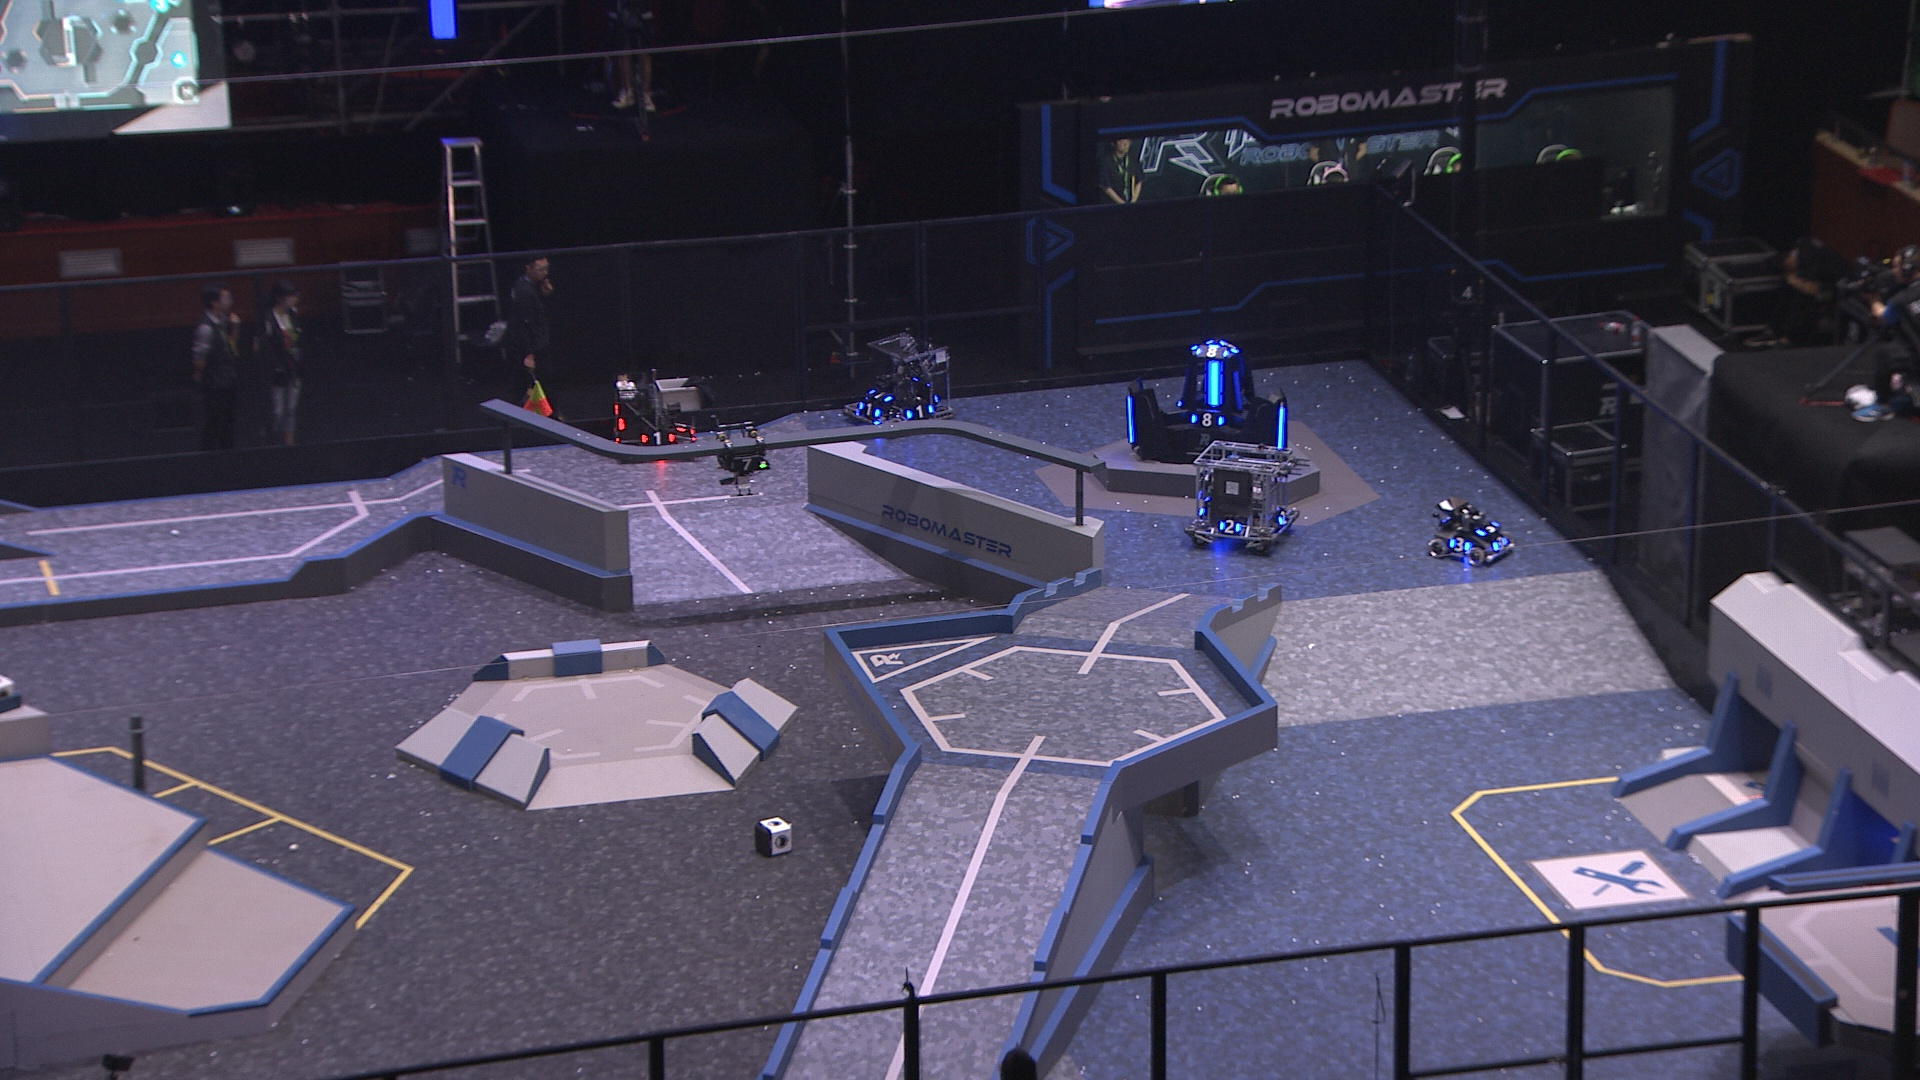armor: (1203, 361, 1226, 411), (1120, 392, 1138, 448), (1232, 368, 1247, 414), (1275, 404, 1290, 450), (1193, 342, 1226, 360), (902, 401, 935, 419), (731, 455, 765, 472), (1189, 413, 1225, 429), (855, 400, 882, 419), (1472, 518, 1501, 537), (1218, 517, 1244, 538), (640, 431, 675, 446), (865, 386, 895, 401), (1448, 534, 1472, 553), (1490, 533, 1509, 555), (1273, 506, 1290, 527), (671, 418, 688, 436), (1220, 338, 1240, 353), (609, 427, 626, 444)
base: (1116, 335, 1294, 467)
car: (1188, 436, 1300, 551), (844, 334, 956, 434), (605, 372, 702, 454), (1427, 493, 1518, 570)
watcher: (711, 409, 771, 498)
